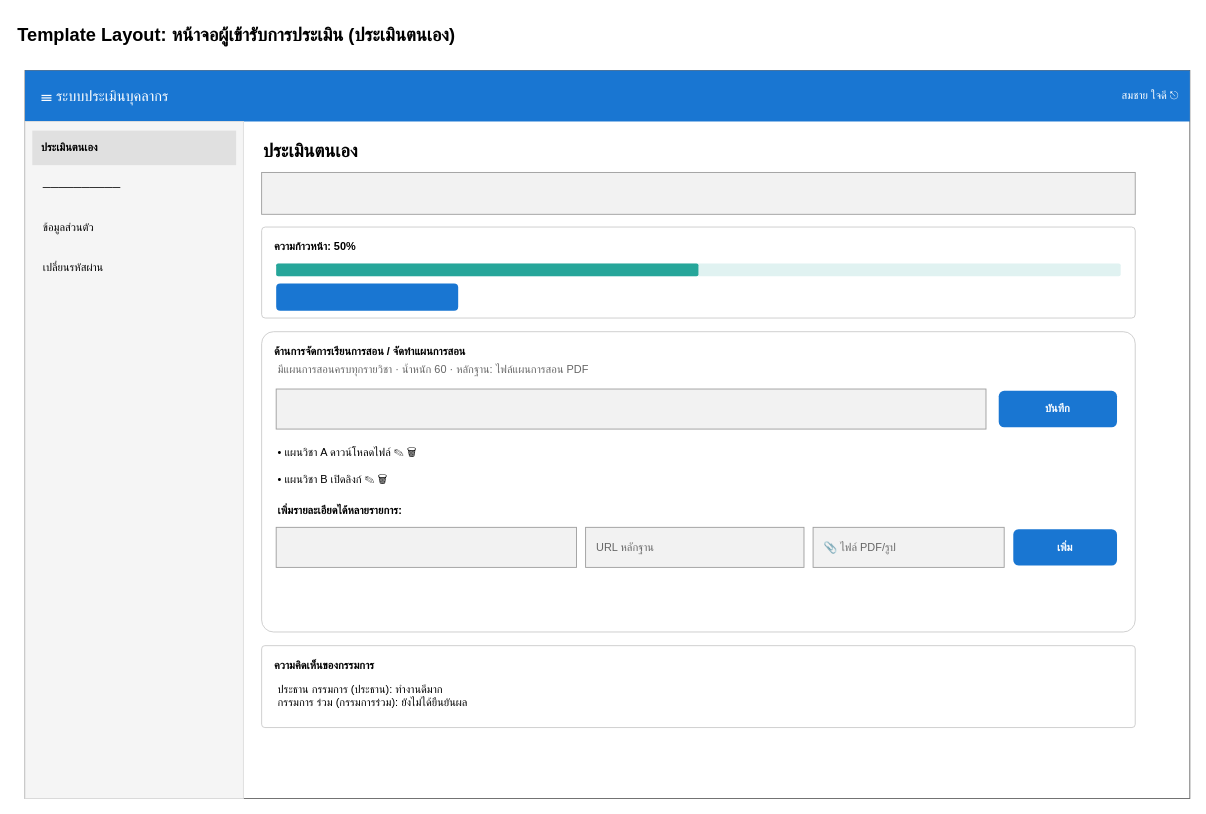
Image size: 1206x814. Some labels were removed from this diagram. The centre of each missing label's shape, as x and y in pixels:
คะแนนตนเอง: 3 - ปฏิบัติได้ตามระดับที่คาดหวัง ▾: (x=630, y=408)
ดูรายงาน / Export PDF: (x=367, y=296)
รายละเอียดประกอบ: (x=425, y=546)
เลือกรอบการประเมิน: ประเมินประจำปี 2569 ▾: (x=698, y=193)
